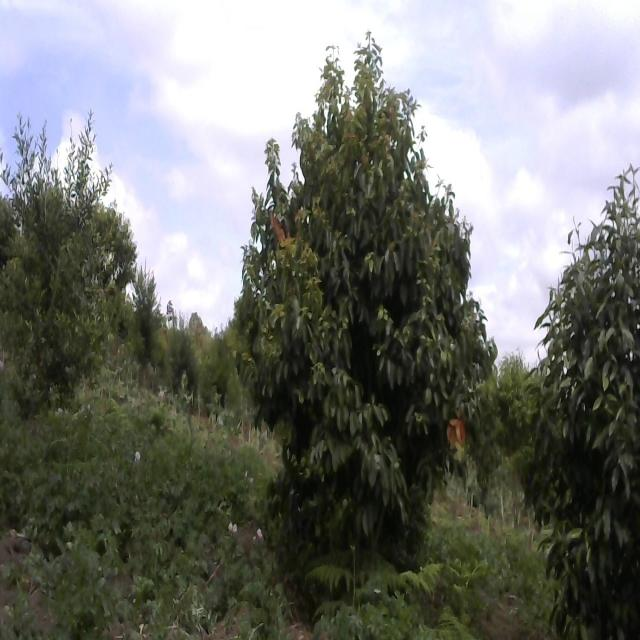Olea europea -africana-: (0, 107, 122, 393)
Prunus Africana: (238, 34, 490, 564), (536, 128, 640, 636)
